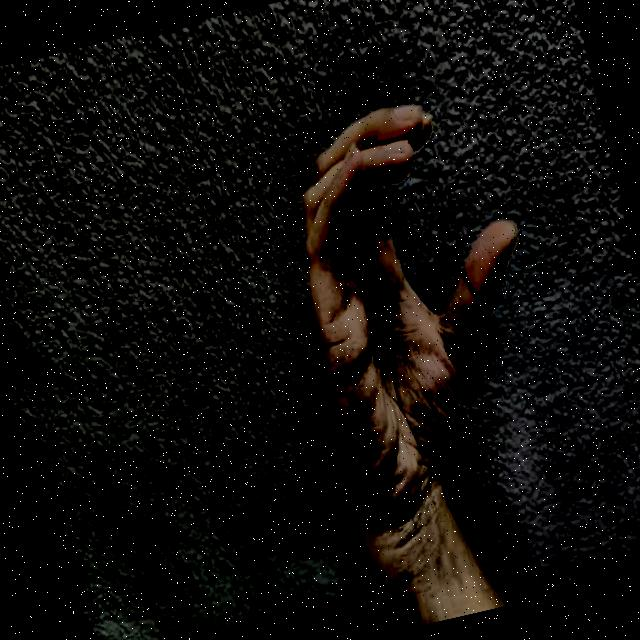A: (240, 59, 600, 546)
